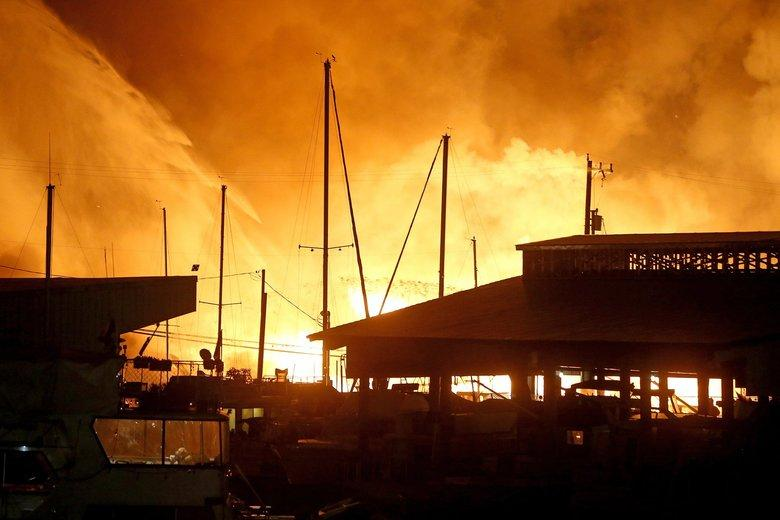Fire: (258, 289, 779, 405)
